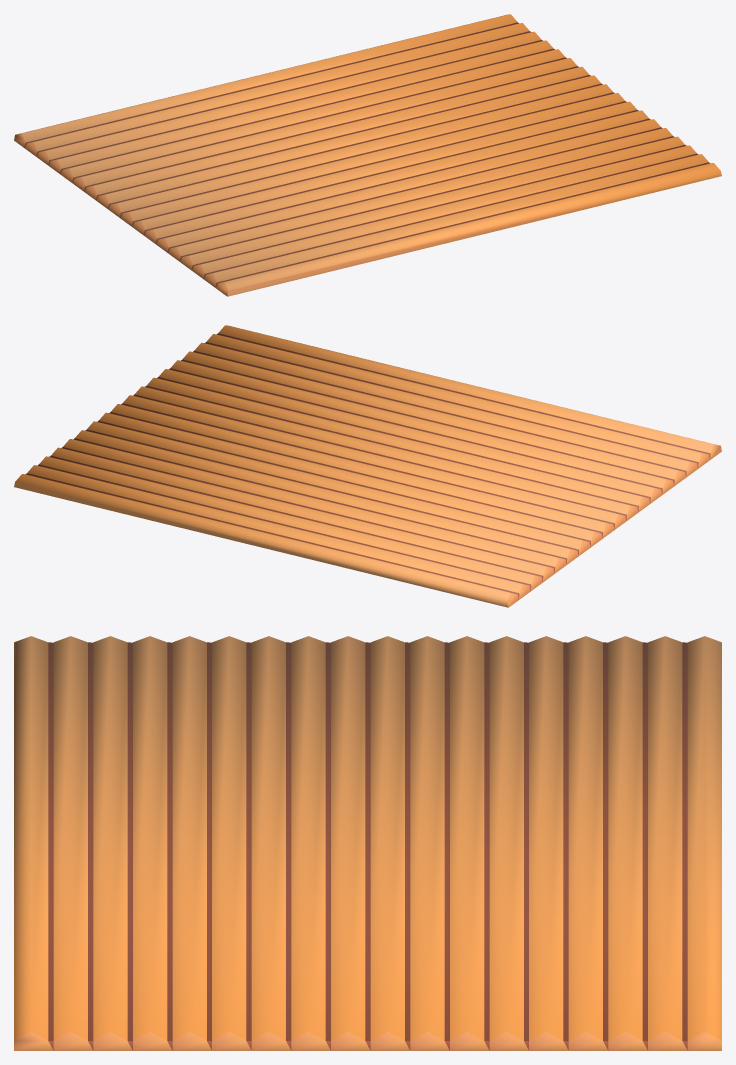
File: board_004.fbx
3 renders of one model, top to bottom at view 1: azimuth 30°, elevation 25°; view 2: azimuth 150°, elevation 25°; view 3: azimuth 270°, elevation 25°, orthographic. The views are drawn at different scales.
Visible parts, largest first — view 1: board_004; view 2: board_004; view 3: board_004.
Boxes of the visible parts, x1,y1,x2,y2 form: board_004: (14,14,721,296); board_004: (14,325,721,607); board_004: (14,636,721,1050).
Bounding box in the file's own units: 34.37 × 25.69 × 0.6779.
